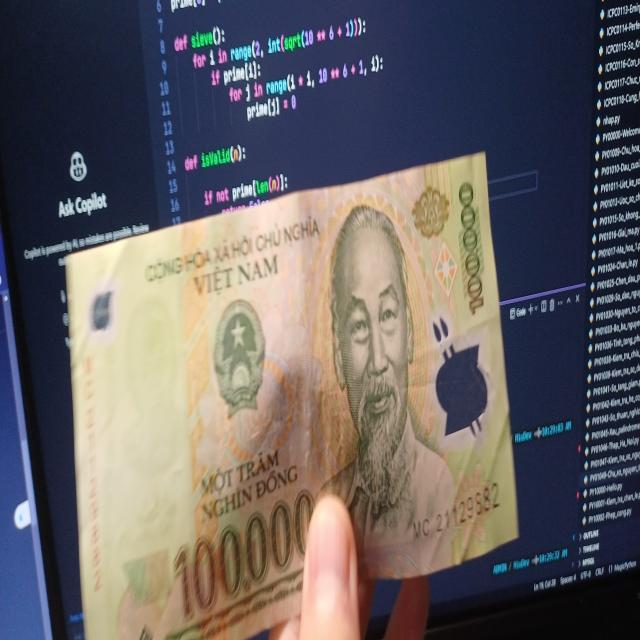100 000 VND: (65, 150, 519, 640)
